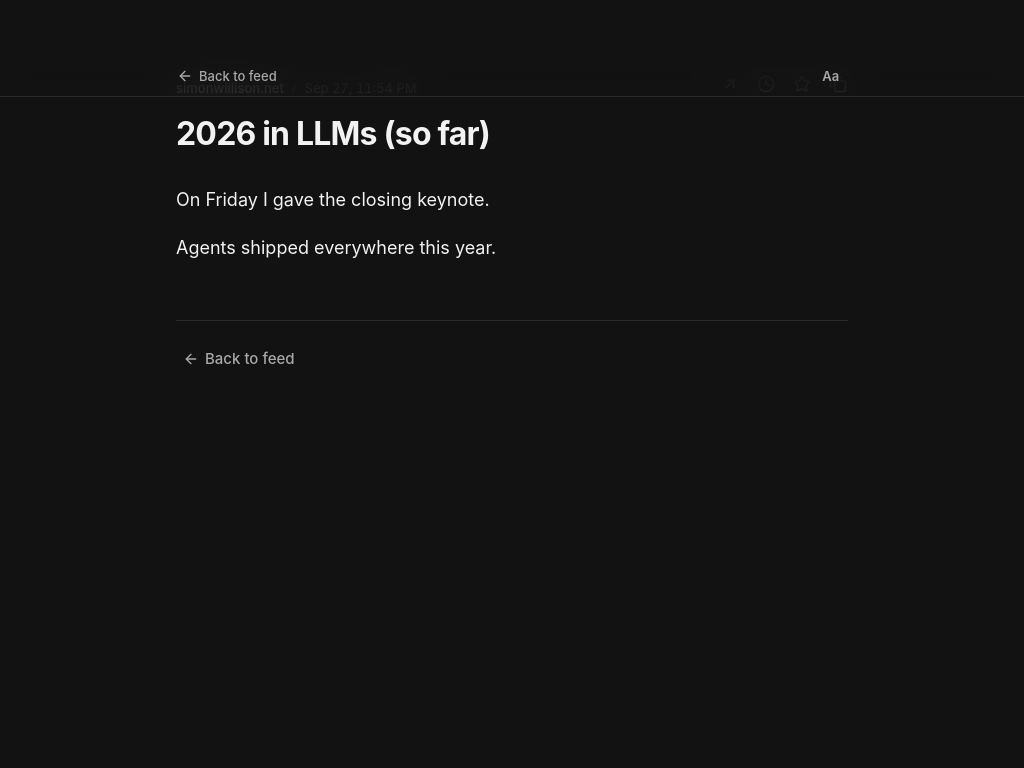
Scenario: PostDetailPage reading settings › the Aa popover shows the three settings, today's checked
This screenshot has width=1024, height=768.
Click the button with aria-label "Reading settings" at [831, 76], box [813, 60, 848, 92]
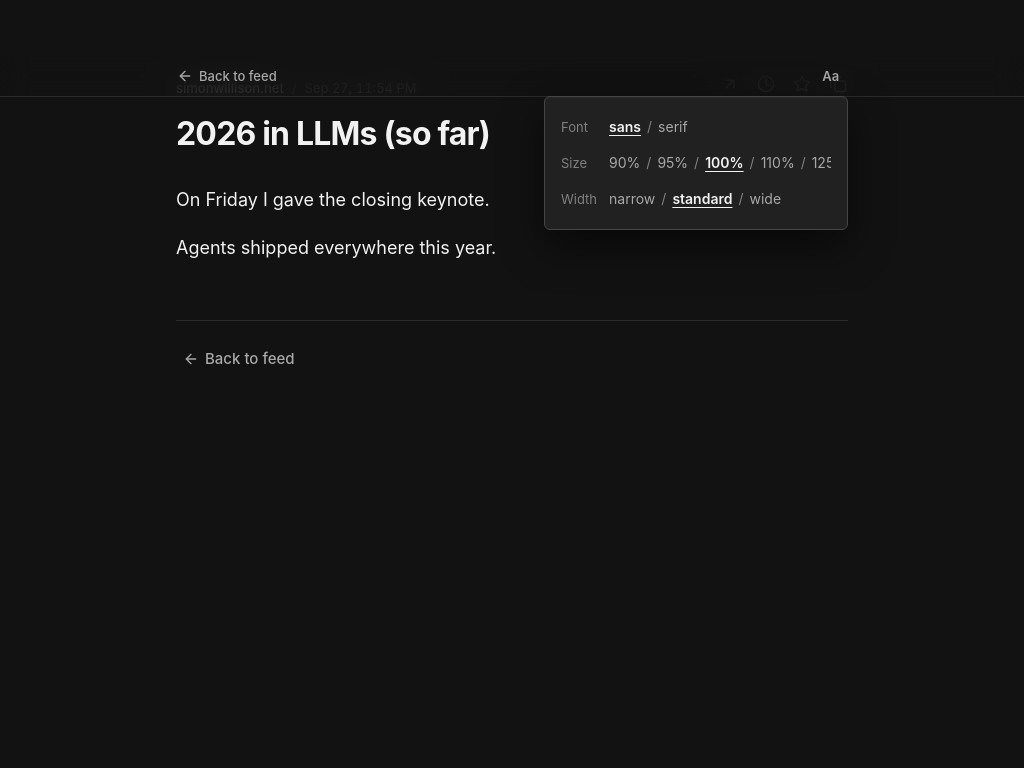
Result: the element named "Font" is shown at [605, 109, 692, 145]
Result: the radio button labelled "Sans" is shown at [605, 109, 645, 145]
Result: the radio button labelled "100%" is shown at [701, 145, 748, 181]
